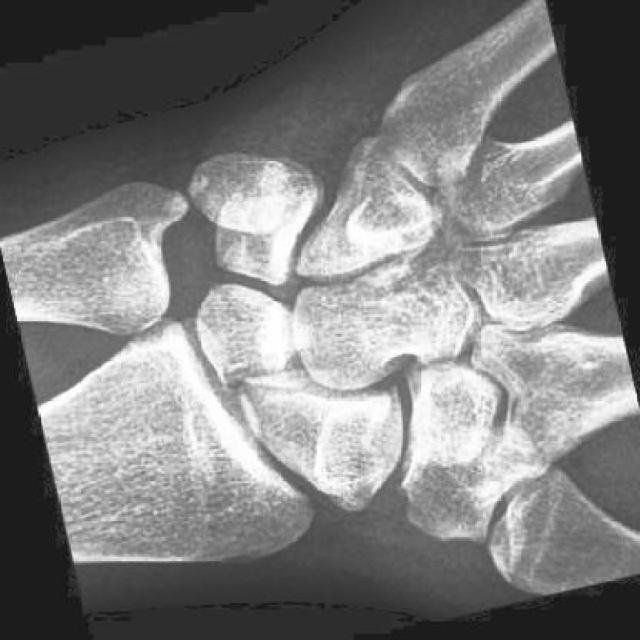Fracture: (251, 157, 325, 223)
